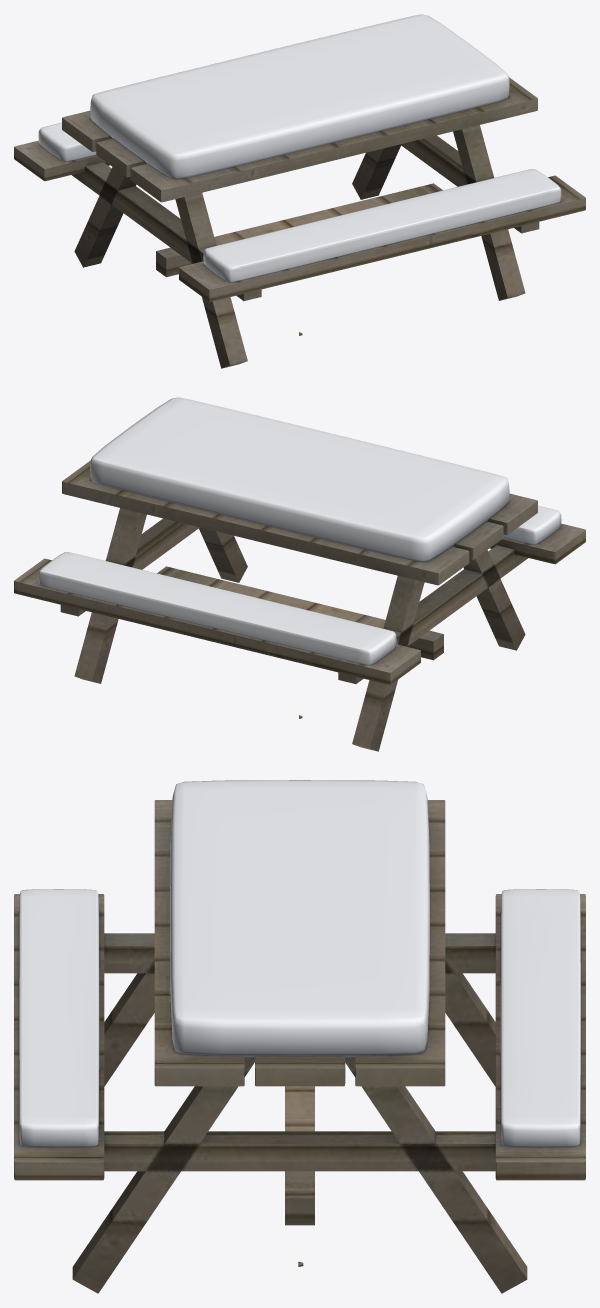
The model's file is picnic_table.glb.
3 renders of one model, top to bottom at view 1: azimuth 30°, elevation 25°; view 2: azimuth 150°, elevation 25°; view 3: azimuth 270°, elevation 25°, orthographic. The views are drawn at different scales.
Parts seen in each view (by area): view 1: picnic_table_snow, picnic_table; view 2: picnic_table_snow, picnic_table; view 3: picnic_table_snow, picnic_table.
Boxes of the visible parts, x1,y1,x2,y2 form: picnic_table_snow: (38,14,561,282); picnic_table: (14,77,585,368); picnic_table_snow: (38,397,561,665); picnic_table: (14,460,585,751); picnic_table_snow: (19,780,580,1147); picnic_table: (14,800,585,1293).
Bounding box in the file's own units: 1.9 × 1.21 × 1.71.
2 materials, 1 textured.
